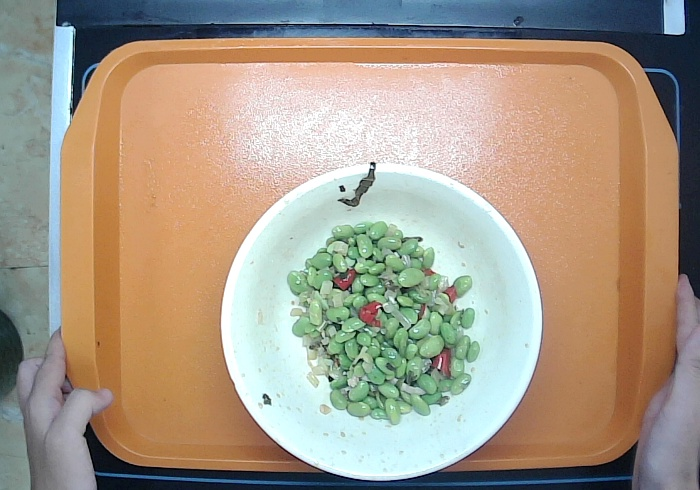ZNLD-Da_Tang_Wan: (217, 159, 547, 485)
